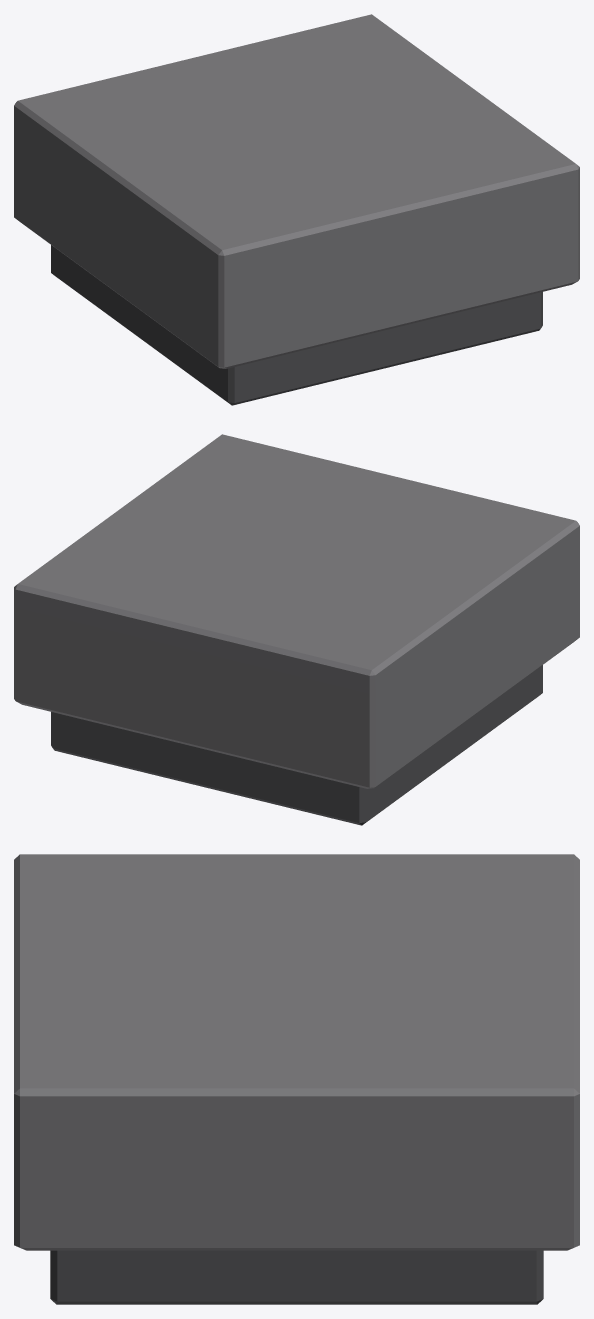
File: stand.fbx
3 views of the same model, one above another, from view 1: azimuth 30°, elevation 25°; view 2: azimuth 150°, elevation 25°; view 3: azimuth 270°, elevation 25° (orthographic). The views are drawn at different scales.
Parts seen in each view (by area): view 1: Cube; view 2: Cube; view 3: Cube.
Boxes of the visible parts, x1,y1,x2,y2 form: Cube: (14, 14, 579, 405); Cube: (14, 434, 579, 825); Cube: (14, 854, 579, 1304).
Size of the model in its own units: 230 by 104 by 230.
